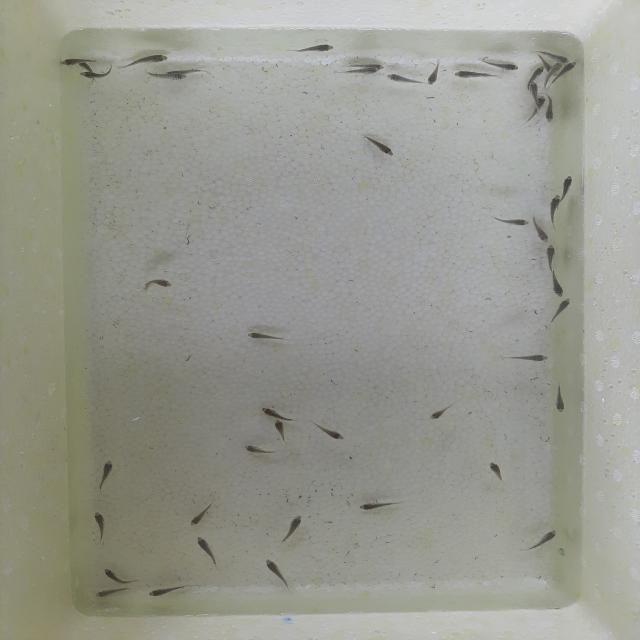fingerling: (276, 510, 304, 549), (523, 529, 560, 554), (147, 582, 198, 599), (306, 421, 347, 442), (244, 331, 293, 348), (118, 53, 170, 68), (498, 350, 552, 364), (91, 511, 112, 546), (490, 211, 530, 229), (365, 136, 397, 158), (263, 558, 290, 584), (94, 459, 114, 494), (550, 380, 570, 415), (383, 73, 426, 89), (283, 44, 337, 56), (194, 534, 218, 560), (487, 456, 506, 488), (426, 402, 456, 422), (357, 498, 407, 510), (335, 66, 383, 78), (79, 68, 111, 86), (548, 297, 573, 319), (186, 507, 212, 528), (58, 55, 100, 68), (143, 72, 188, 84), (426, 61, 446, 87), (240, 444, 282, 456), (451, 69, 501, 79), (137, 278, 172, 292), (548, 274, 567, 298), (259, 406, 291, 420), (100, 566, 124, 584), (272, 418, 288, 444), (526, 102, 547, 121), (94, 589, 127, 601), (535, 224, 553, 245), (544, 244, 557, 273), (167, 66, 201, 77), (542, 100, 556, 124), (560, 174, 574, 197), (490, 62, 519, 72), (549, 194, 561, 216), (527, 80, 540, 100), (566, 60, 580, 75), (550, 61, 564, 76), (531, 64, 546, 75)
